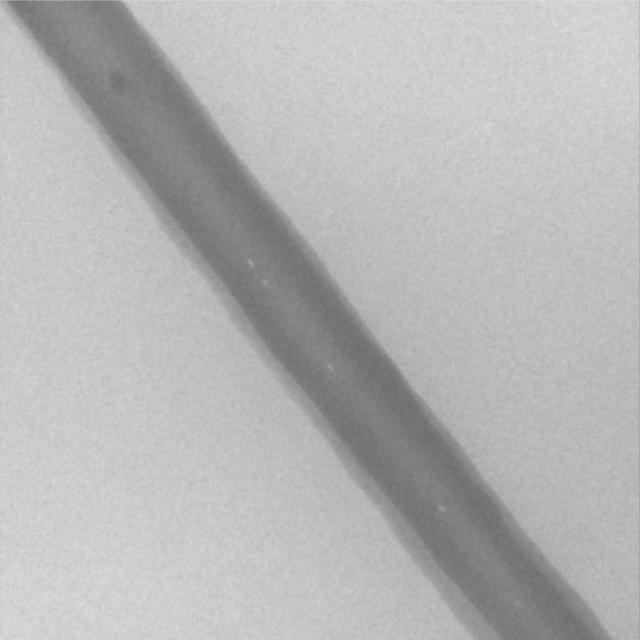air hole: (260, 276, 270, 289), (325, 362, 334, 373), (436, 504, 445, 514), (246, 259, 254, 267)
